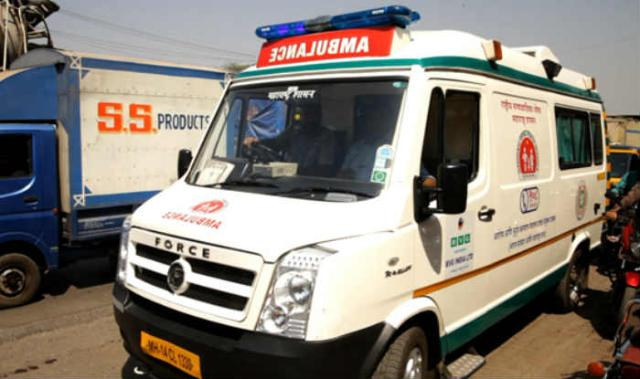ambulance: (114, 5, 617, 379)
